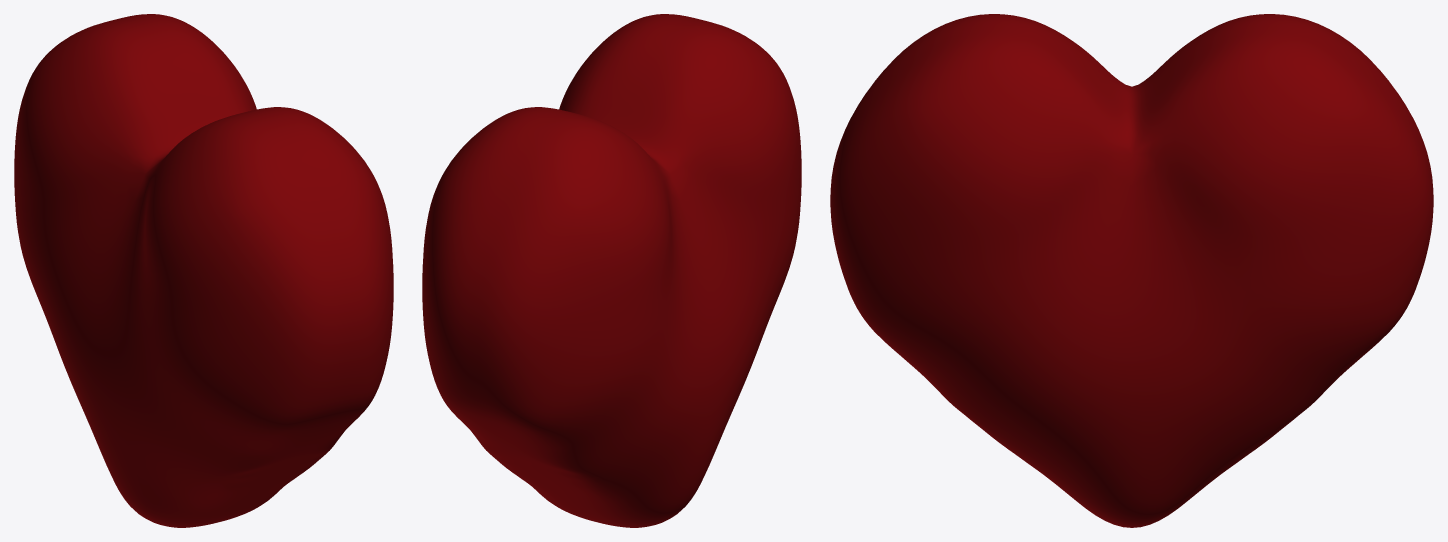
File: heart_imoji2.glb
3 renders of one model, left to right at view 1: azimuth 30°, elevation 25°; view 2: azimuth 150°, elevation 25°; view 3: azimuth 270°, elevation 25°, orthographic. The views are drawn at different scales.
Visible parts, largest first — view 1: Cube; view 2: Cube; view 3: Cube.
Part boxes in pixels (x1=…): Cube: x1=14, y1=14, x2=393, y2=527; Cube: x1=422, y1=14, x2=801, y2=527; Cube: x1=830, y1=14, x2=1433, y2=527.
Size of the model in its own units: 0.9529 by 1.91 by 2.15.
